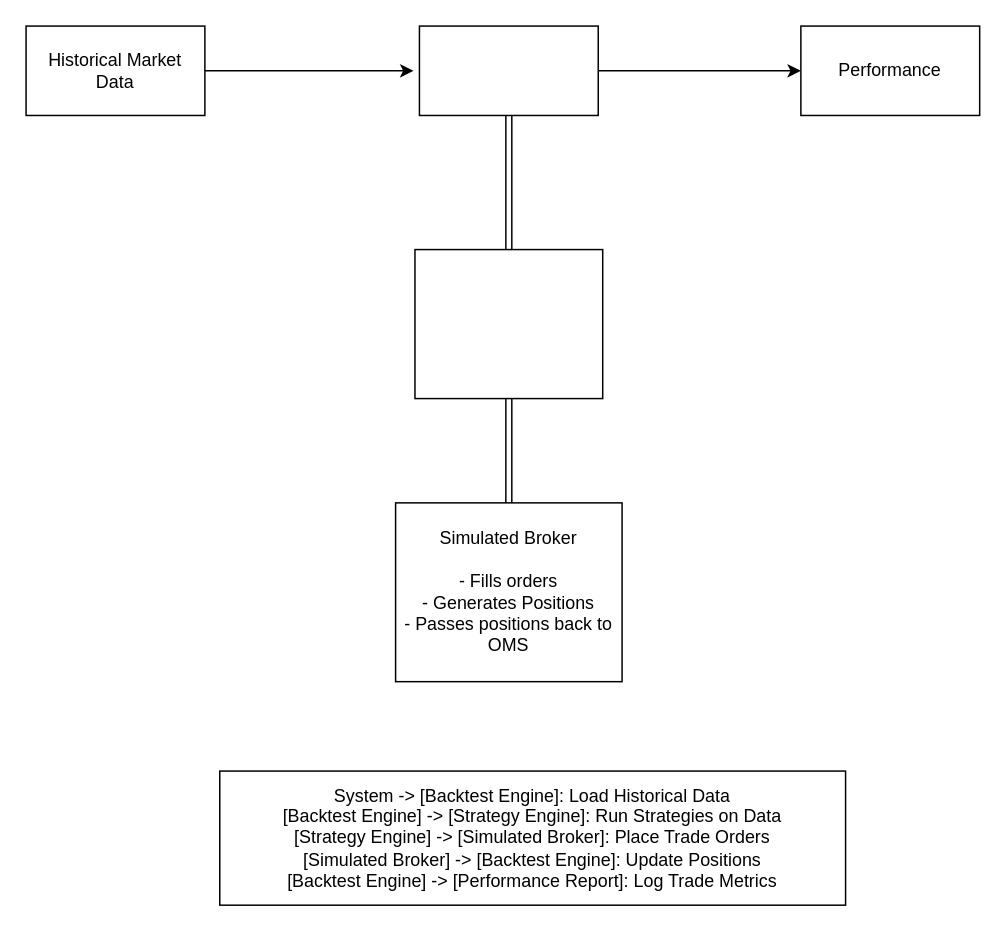
This 1006x931 diagram has some shape labels left out. The shapes that lost their labels are listed below. From the top down, each one's box as (x1, y1, x2, y2) in pixels, then its label:
(418, 25, 598, 115): Backtest Engine
(413, 248, 603, 399): Strategy Engine - Runs all strategies - Generates Orders
